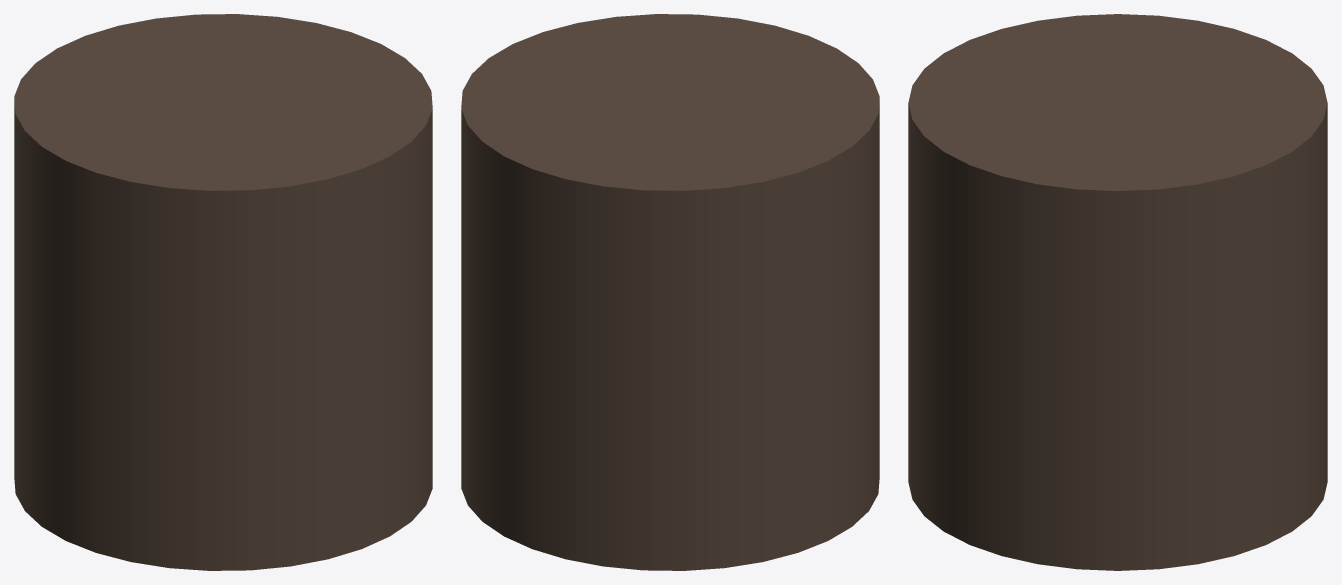
The model's file is level3_blockout.fbx.
3 views of the same model, side by side, from view 1: azimuth 30°, elevation 25°; view 2: azimuth 150°, elevation 25°; view 3: azimuth 270°, elevation 25° (orthographic).
Parts seen in each view (by area): view 1: Cylinder.002; view 2: Cylinder.002; view 3: Cylinder.002.
Part boxes in pixels (left/top/right/bottom): Cylinder.002: left=14, top=14, right=432, bottom=570; Cylinder.002: left=461, top=14, right=879, bottom=570; Cylinder.002: left=908, top=14, right=1327, bottom=570.
Bounding box in the file's own units: 3491 × 3491 × 3491.
